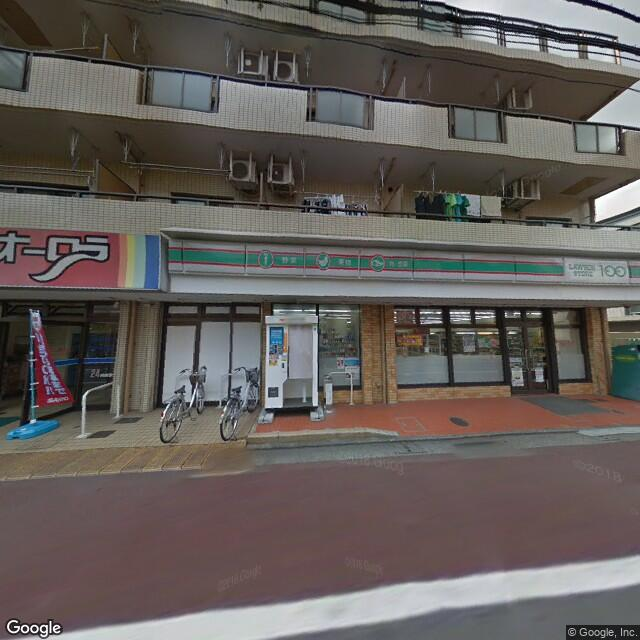lawson: (165, 236, 640, 293)
